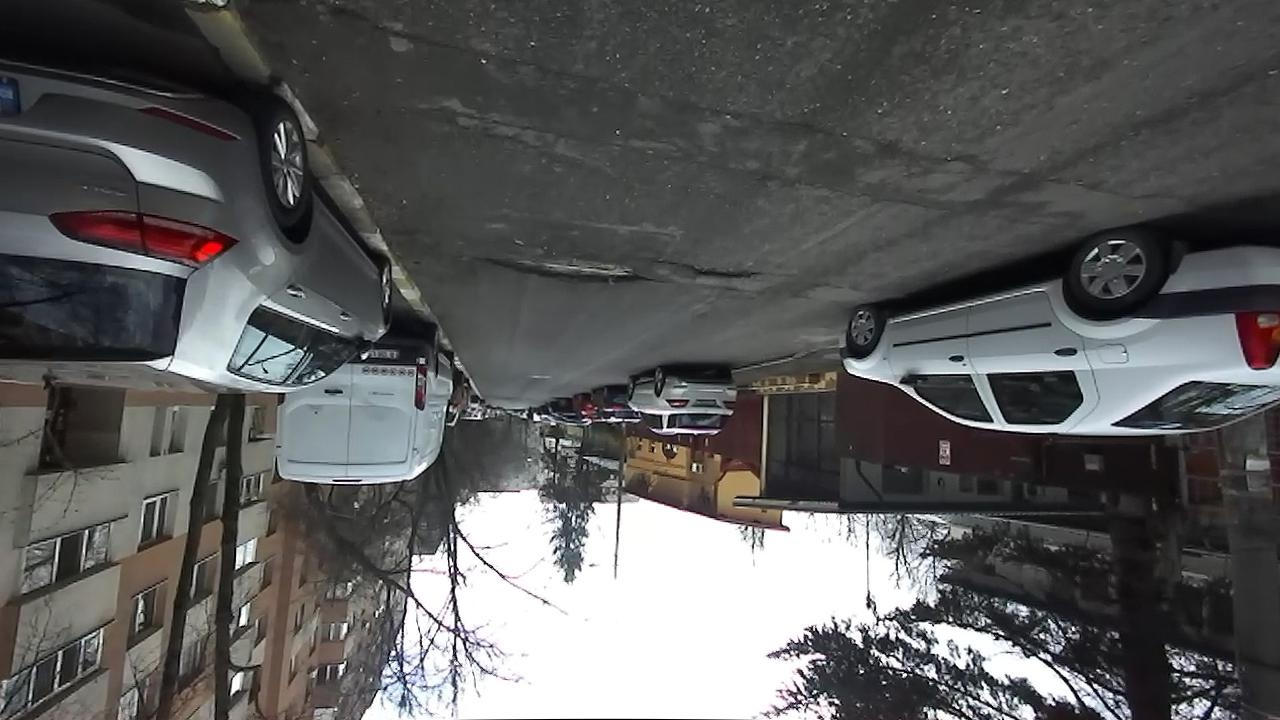pothole: (479, 249, 653, 288), (679, 259, 764, 281)
